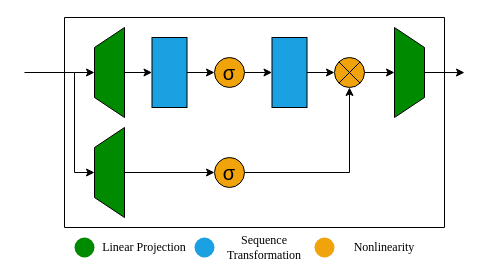
Some shapes in this 490 by 280 pixel diagram are drawn without their labels. Here are the shapes that lost their labels. From the top down, the box of each, then its label:
(151, 36, 187, 108): Conv
(271, 36, 307, 108): SSM
